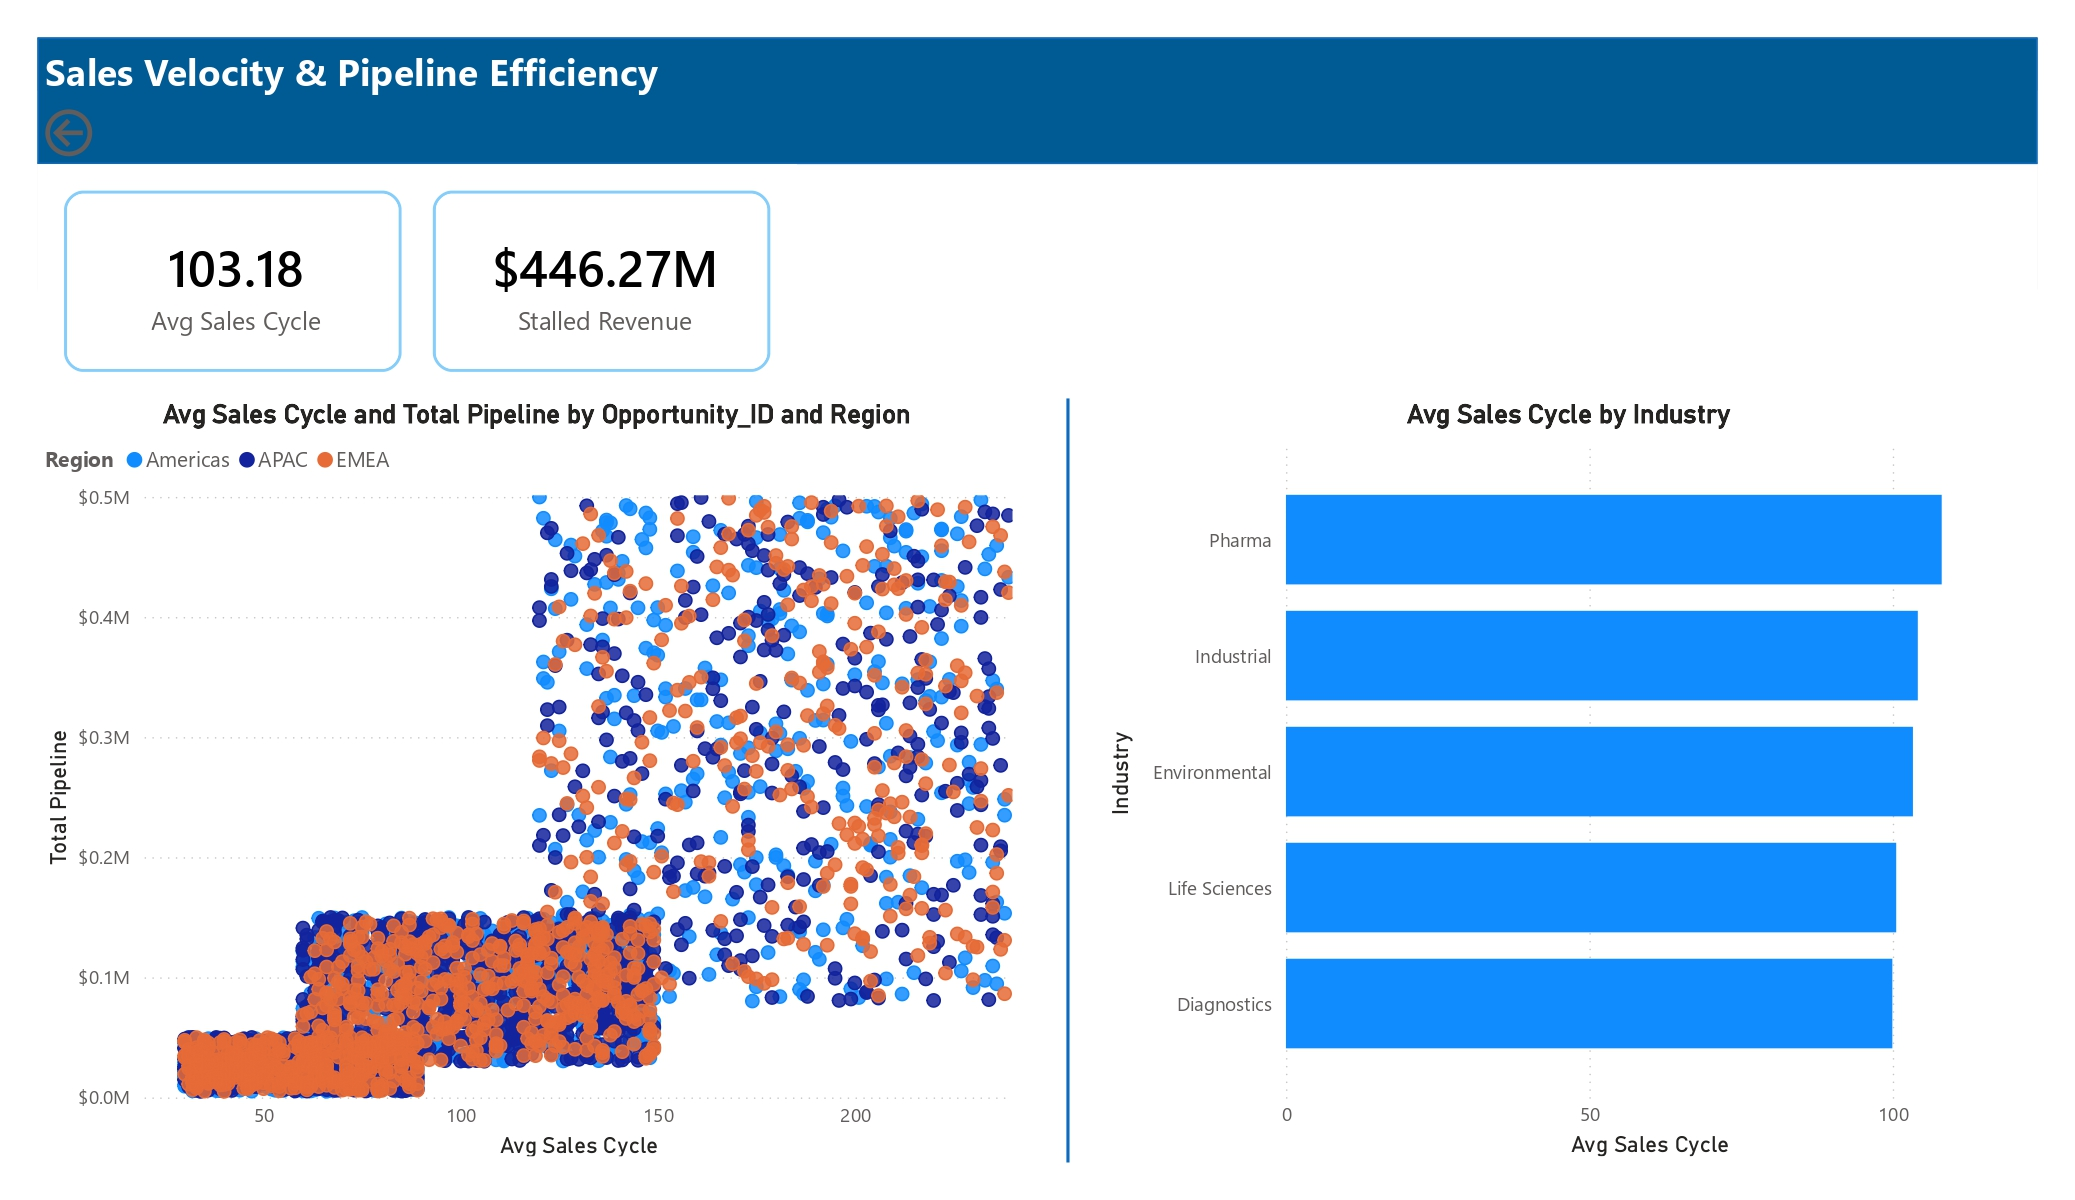

The dashboard page shown, as its layout file describes it:
{"tool":"powerbi","page":{"name":"Sales Efficiency","canvas":[1280,720],"ordinal":3},"visuals":[{"type":"shape","box":[0,0,1280.1,81.3],"z":0},{"type":"textbox","box":[0,0,679.9,45.5],"z":1000},{"type":"actionButton","box":[0,40.7,99.2,40.7],"z":2000},{"type":"cardVisual","fields":{"Data":["DAX_Measures.Avg Sales Cycle"]},"box":[0,81.3,250.5,149.6],"z":3000},{"type":"scatterChart","fields":{"Category":["fact_opportunities.Opportunity_ID"],"X":["DAX_Measures.Avg Sales Cycle"],"Y":["DAX_Measures.Total Pipeline"],"Series":["dim_sales_rep.Region"]},"box":[0,231,639.2,489.6],"z":4000},{"type":"cardVisual","fields":{"Data":["DAX_Measures.Stalled Revenue"]},"box":[235.8,81.3,250.5,149.6],"z":5000},{"type":"clusteredBarChart","title":"Avg Sales Cycle by Industry","fields":{"Y":["DAX_Measures.Avg Sales Cycle"],"Category":["dim_account.Industry"]},"box":[679.9,231,600.2,489.6],"z":6000},{"type":"shape","box":[639.2,231,40.7,489.6],"z":7000}]}

Visuals, with their boxes on the page's 1280x720 design canvas (x1, y1, x2, y2). These are canvas units, not pixel positions in the 2075x1200 screenshot, which may show the page scaled, cropped or inside an application window:
shape: pyautogui.locateOnScreen(0, 0, 1280, 81)
textbox: pyautogui.locateOnScreen(0, 0, 680, 46)
actionButton: pyautogui.locateOnScreen(0, 41, 99, 81)
cardVisual - DAX_Measures.Avg Sales Cycle: pyautogui.locateOnScreen(0, 81, 250, 231)
scatterChart - fact_opportunities.Opportunity_ID x DAX_Measures.Avg Sales Cycle: pyautogui.locateOnScreen(0, 231, 639, 721)
cardVisual - DAX_Measures.Stalled Revenue: pyautogui.locateOnScreen(236, 81, 486, 231)
"Avg Sales Cycle by Industry" clusteredBarChart: pyautogui.locateOnScreen(680, 231, 1280, 721)
shape: pyautogui.locateOnScreen(639, 231, 680, 721)
